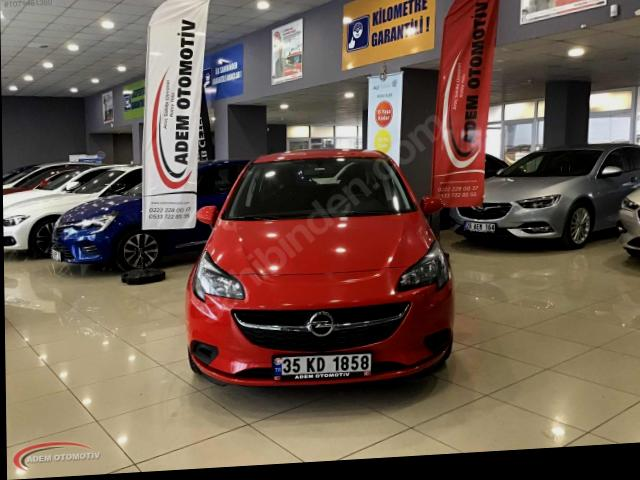plaka: (273, 353, 371, 380)
